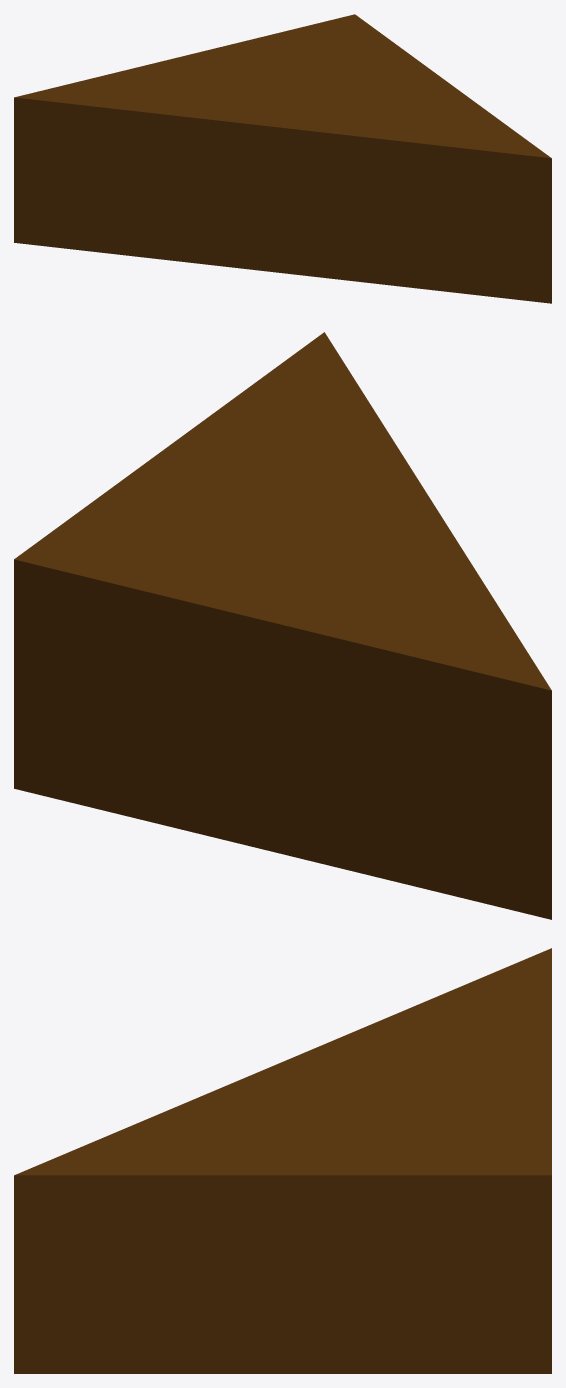
The model's file is wallcornerreverse.fbx.
3 views of the same model, one above another, from view 1: azimuth 30°, elevation 25°; view 2: azimuth 150°, elevation 25°; view 3: azimuth 270°, elevation 25° (orthographic). The views are drawn at different scales.
Parts seen in each view (by area): view 1: WallCorner.001; view 2: WallCorner.001; view 3: WallCorner.001.
Part boxes in pixels (x1=…): WallCorner.001: x1=14, y1=14, x2=551, y2=303; WallCorner.001: x1=14, y1=332, x2=551, y2=919; WallCorner.001: x1=14, y1=948, x2=551, y2=1373.
Size of the model in its own units: 29.5 by 12.01 by 29.5.
